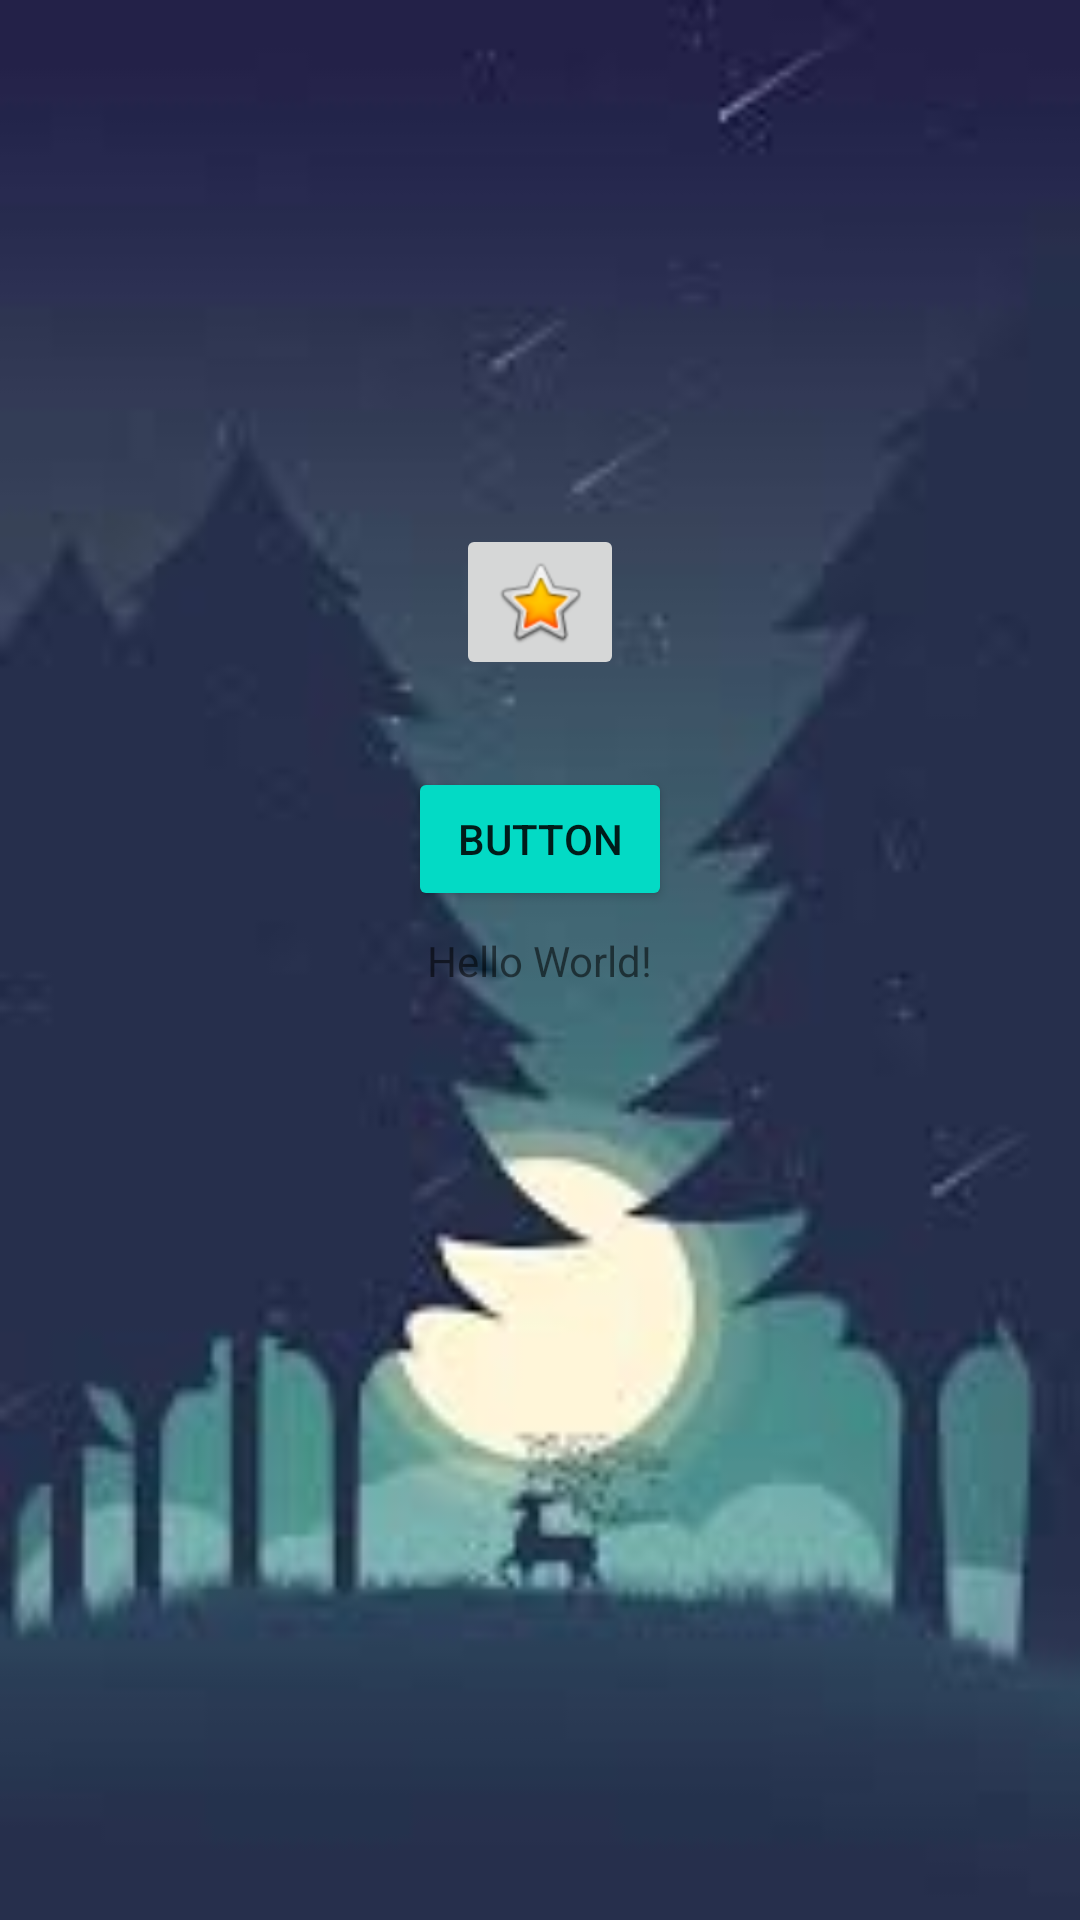

Icons on this 1080px x 1920px Android screen, each with the point to tap as (x=x, y=y):
star on: (x=540, y=605)
